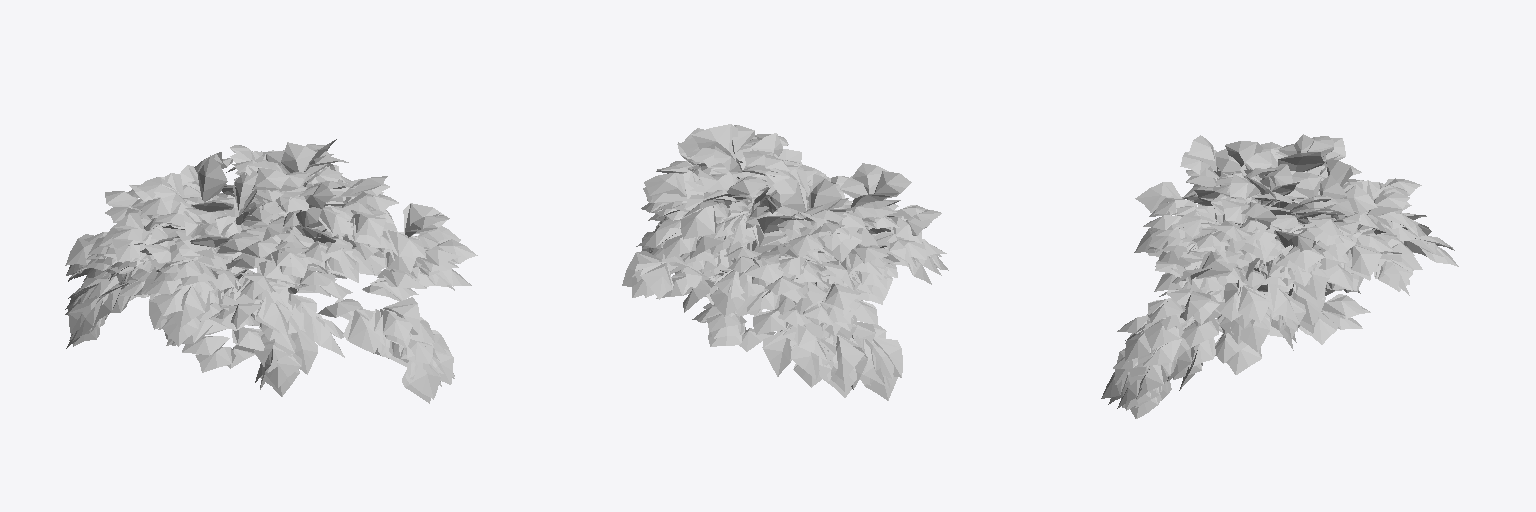
The model's file is ttree.obj.
3 renders of one model, left to right at view 1: azimuth 30°, elevation 25°; view 2: azimuth 150°, elevation 25°; view 3: azimuth 270°, elevation 25°, orthographic.
Visible parts, largest first — view 1: Tree_polySurface1_g1_g2_polySurface1; view 2: Tree_polySurface1_g1_g2_polySurface1; view 3: Tree_polySurface1_g1_g2_polySurface1.
Boxes of the visible parts, x1,y1,x2,y2 form: Tree_polySurface1_g1_g2_polySurface1: [65, 139, 477, 403]; Tree_polySurface1_g1_g2_polySurface1: [622, 124, 948, 400]; Tree_polySurface1_g1_g2_polySurface1: [1101, 134, 1458, 418].
Size of the model in its own units: 3.63 by 2.33 by 3.55.